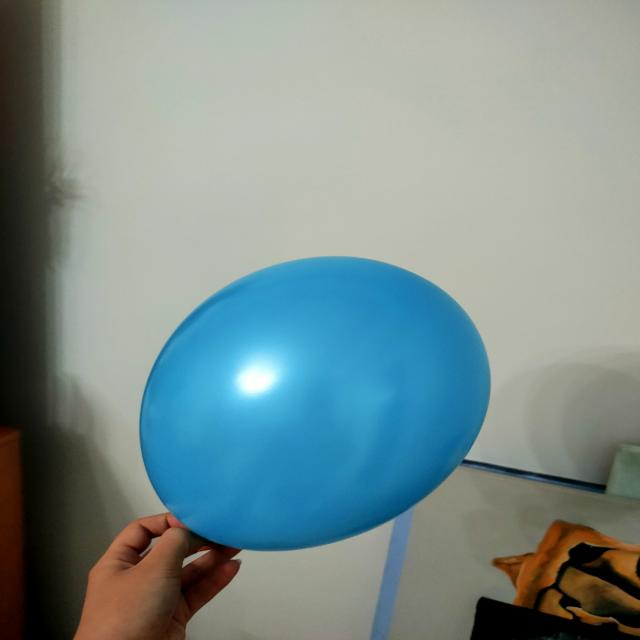blue: (138, 257, 492, 554)
